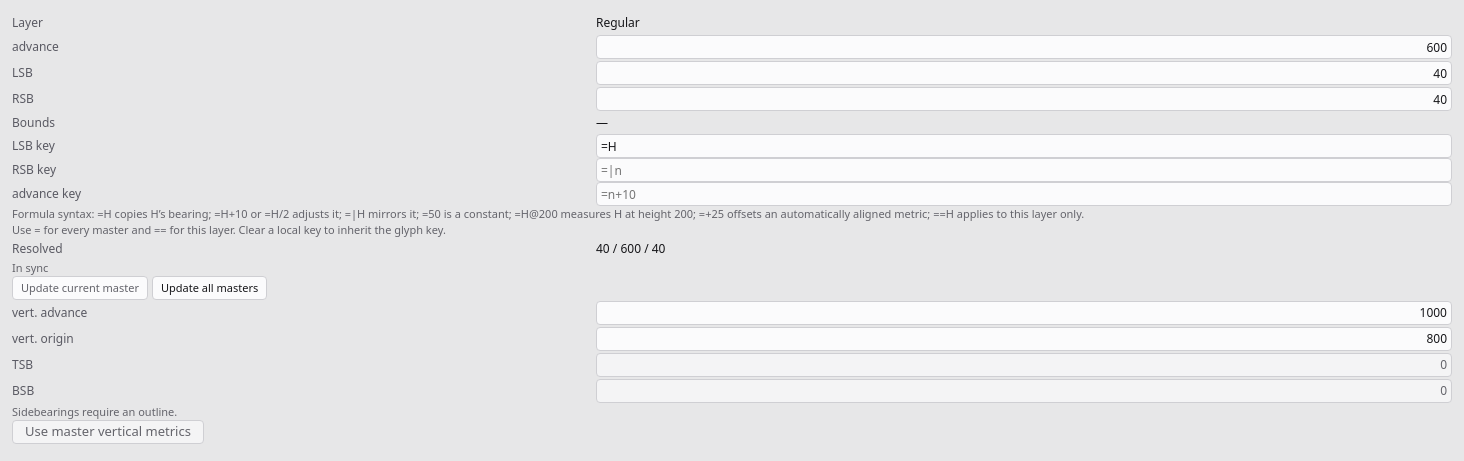
Scenario: metrics synchronization › restores a rejected formula draft after reporting the failure
Type "=absent" into the field labelled "LSB key" at (1024, 146), box [596,134,1452,158]
Then press Enter
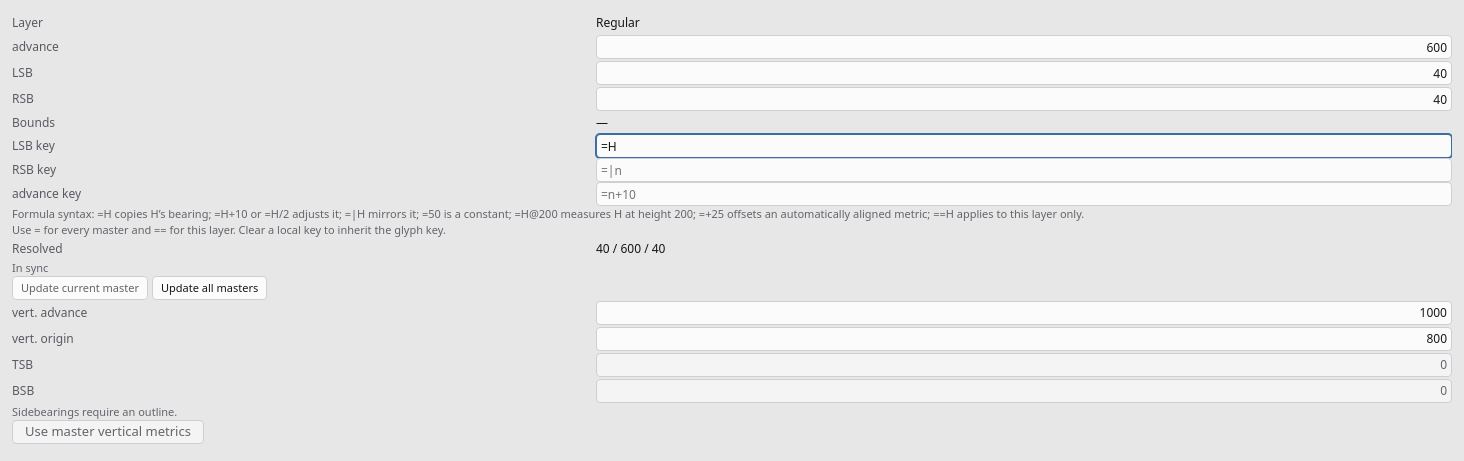
Expected: the field labelled "LSB key" holds "=H", [596,134,1452,158]
